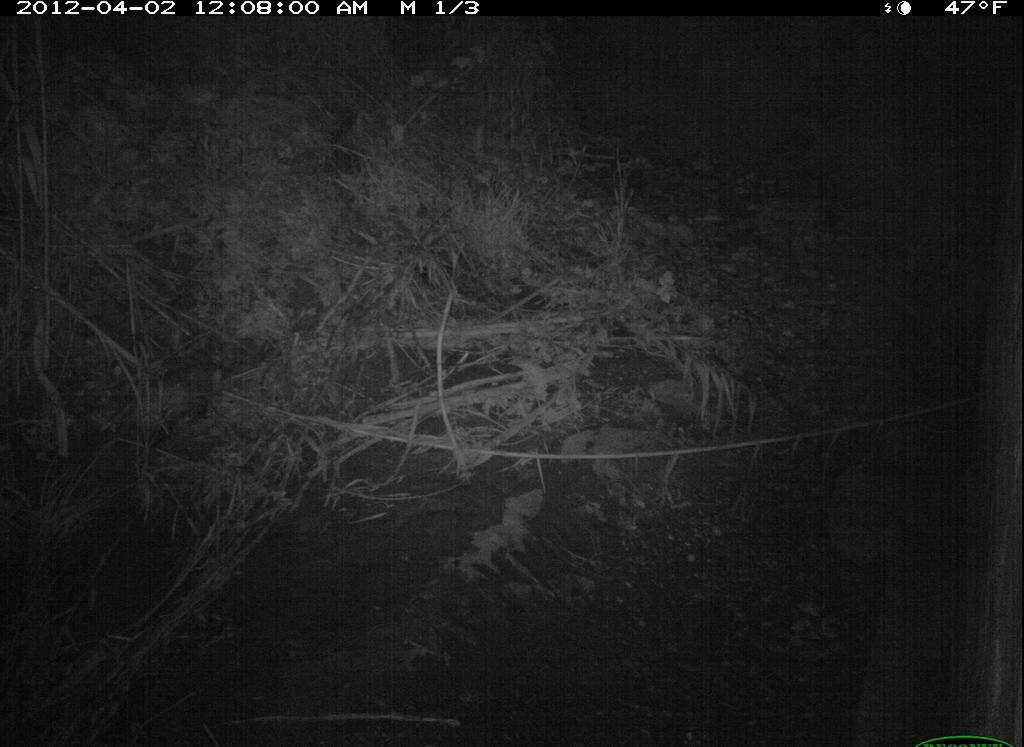opossum: (116, 351, 236, 463)
